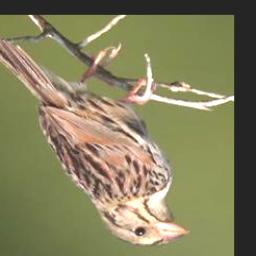Sparrow: (0, 36, 190, 250)
